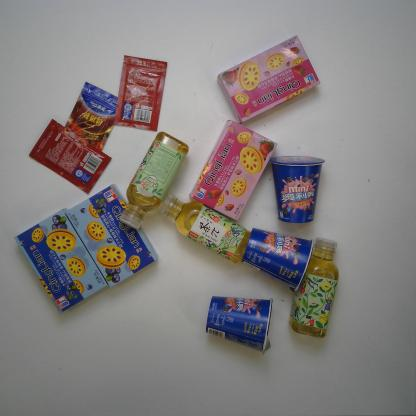Dessert: (13, 207, 108, 315), (65, 183, 159, 289), (216, 34, 322, 124), (188, 118, 278, 222), (241, 227, 315, 293), (204, 295, 272, 356), (268, 154, 325, 225)
Drink: (118, 130, 190, 230), (158, 193, 252, 264), (288, 236, 340, 339)
Seasoner: (28, 118, 113, 195), (114, 54, 168, 132), (64, 81, 118, 151)
